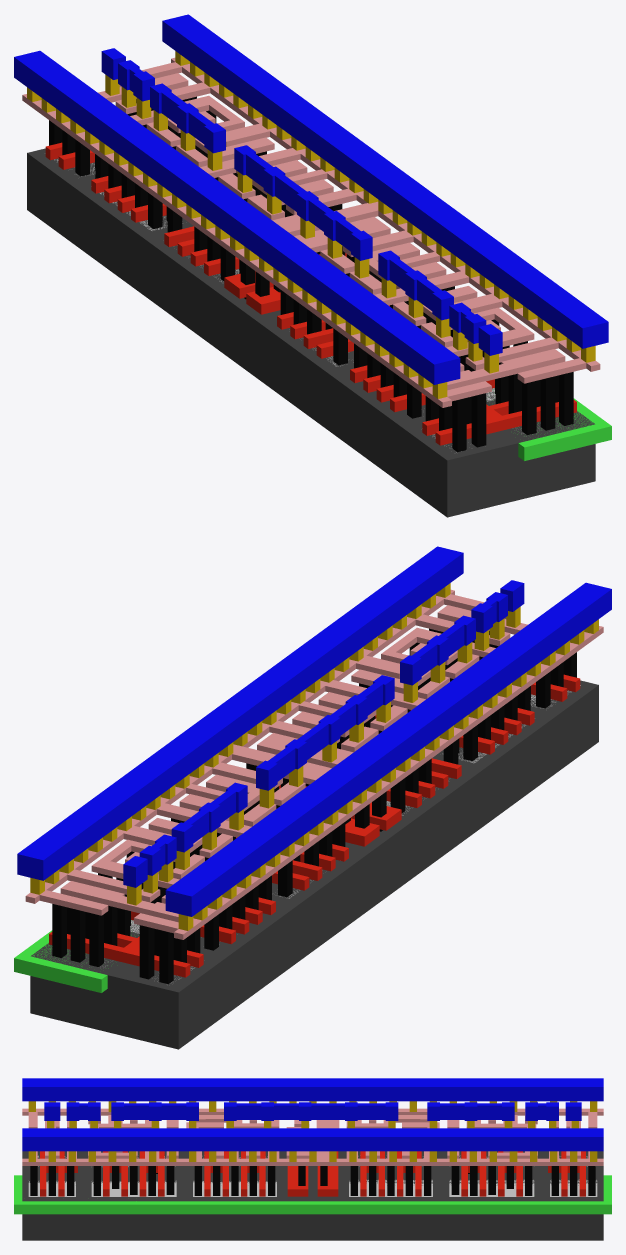
Rendered from sky130_fd_sc_hd__macro_sparecell.obj.
The picture shows the model from 3 angles, top to bottom: view 1: azimuth 30°, elevation 25°; view 2: azimuth 150°, elevation 25°; view 3: azimuth 270°, elevation 25°; orthographic projection. The views are drawn at different scales.
Parts seen in each view (by area): view 1: metal1, subs, li, licon, mcon, poly, nwell; view 2: metal1, subs, li, licon, mcon, poly, nwell; view 3: metal1, subs, li, nwell, poly, licon, mcon, tap.
Part boxes in pixels (<box>): metal1: <box>14,14,608,384</box>; subs: <box>27,148,595,517</box>; li: <box>22,57,600,407</box>; licon: <box>49,96,573,452</box>; mcon: <box>27,51,595,398</box>; poly: <box>45,142,576,445</box>; nwell: <box>517,398,611,460</box>; metal1: <box>17,546,611,916</box>; subs: <box>30,680,598,1049</box>; li: <box>25,589,603,939</box>; licon: <box>52,628,576,984</box>; mcon: <box>30,583,598,930</box>; poly: <box>49,674,580,977</box>; nwell: <box>14,930,138,992</box>; metal1: <box>22,1078,603,1151</box>; subs: <box>22,1151,603,1240</box>; li: <box>22,1108,603,1165</box>; nwell: <box>14,1175,611,1214</box>; poly: <box>40,1151,585,1196</box>; licon: <box>30,1166,595,1195</box>; mcon: <box>28,1101,597,1161</box>; tap: <box>28,1179,597,1196</box>.
Bounding box in the file's own units: 3.2 × 2.74 × 13.72.
